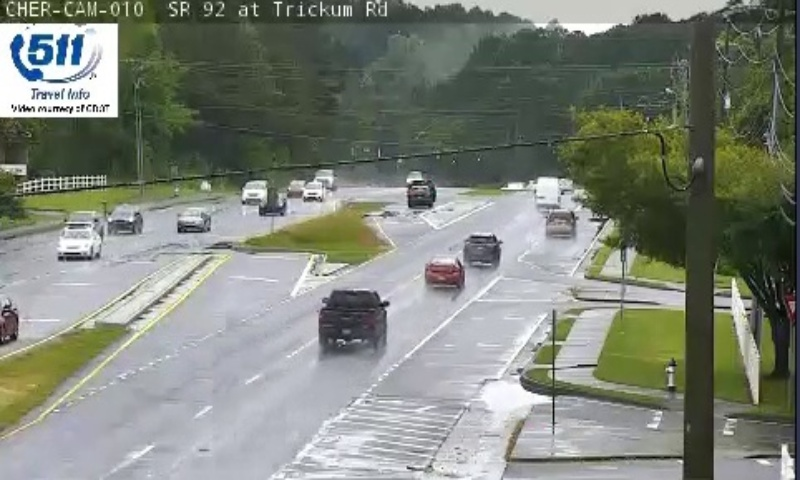car: (318, 288, 386, 341), (463, 232, 501, 265), (424, 258, 463, 288), (546, 209, 575, 238)
van: (534, 175, 561, 209)
